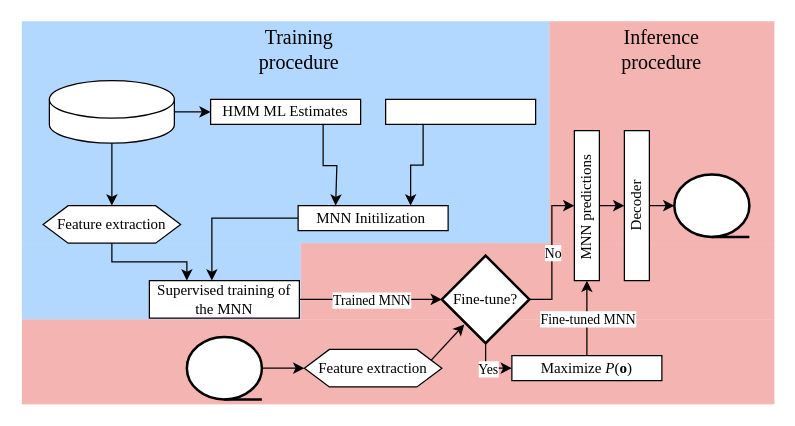
The diagram is 795 pixels wide and 426 high, and some of its shapes have lost their labels. The centre of each missing label's shape, as x and y in pixels:
"ANN Initialization" belongs at pixel 460 111.
"State sequence" belongs at pixel 711 205.
"Train Dataset" belongs at pixel 111 111.
"Unseen observation ( o )" belongs at pixel 223 367.
